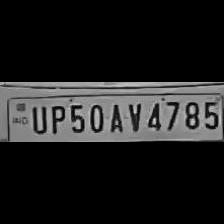0: (86, 100, 106, 134)
4: (144, 98, 162, 132)
5: (200, 96, 220, 132), (66, 100, 86, 134)
7: (161, 97, 179, 132)
8: (180, 97, 200, 130)
A: (107, 100, 125, 134)
P: (46, 101, 66, 135)
U: (28, 102, 48, 134)
V: (124, 99, 142, 133)
